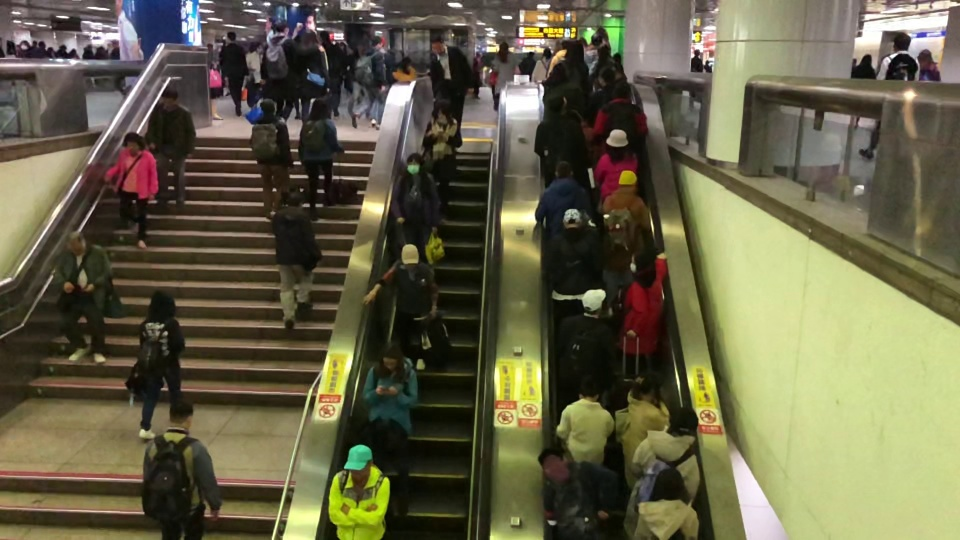person_head: (651, 467, 685, 502), (342, 444, 372, 482), (667, 405, 699, 435), (147, 288, 177, 319), (633, 371, 660, 402), (168, 396, 193, 429), (541, 89, 569, 117), (379, 341, 403, 371), (604, 127, 629, 155), (538, 447, 566, 472), (580, 288, 606, 314), (628, 249, 653, 274), (576, 376, 599, 402), (399, 242, 420, 267), (309, 96, 330, 120), (65, 230, 85, 255), (432, 98, 451, 123), (123, 130, 144, 151), (552, 159, 574, 179), (405, 152, 424, 175), (611, 81, 631, 102), (561, 208, 581, 229), (892, 31, 911, 53), (566, 40, 585, 61), (618, 170, 638, 189), (286, 190, 305, 209), (597, 64, 615, 84), (160, 84, 177, 105), (550, 63, 567, 82), (429, 36, 446, 54), (259, 98, 276, 116), (273, 20, 291, 35), (917, 51, 932, 66), (300, 29, 315, 43), (597, 45, 611, 60), (591, 34, 605, 47), (371, 35, 383, 49), (859, 53, 872, 65), (226, 31, 237, 44), (498, 40, 509, 53), (397, 56, 408, 68), (541, 46, 551, 58), (320, 31, 329, 43), (38, 41, 47, 50), (560, 38, 568, 47), (20, 40, 27, 50), (111, 40, 118, 48), (527, 51, 533, 58), (694, 48, 699, 56)
person_vbox: (141, 396, 223, 540), (621, 405, 701, 538), (361, 341, 419, 517), (362, 243, 439, 371), (53, 229, 114, 366), (858, 31, 919, 160), (136, 288, 186, 440), (269, 189, 321, 331), (537, 449, 614, 540), (600, 169, 651, 305), (144, 84, 197, 212), (615, 371, 672, 490), (103, 130, 159, 251), (614, 248, 669, 368), (328, 443, 392, 539), (571, 80, 648, 158), (297, 95, 344, 222), (544, 208, 598, 316), (559, 287, 614, 393), (555, 375, 616, 469), (250, 97, 294, 224), (390, 152, 442, 259), (533, 89, 589, 184), (421, 98, 463, 224), (428, 36, 474, 149), (632, 467, 699, 540), (535, 159, 594, 237), (260, 20, 298, 121), (592, 128, 638, 203), (298, 28, 329, 122), (355, 34, 386, 128), (219, 31, 247, 117), (542, 63, 584, 113), (321, 30, 344, 120), (592, 65, 631, 117), (545, 40, 590, 85), (491, 40, 515, 97), (547, 38, 570, 76), (917, 51, 940, 82), (532, 47, 553, 79), (853, 53, 876, 80), (518, 51, 536, 75), (691, 47, 702, 73), (110, 40, 120, 60)
